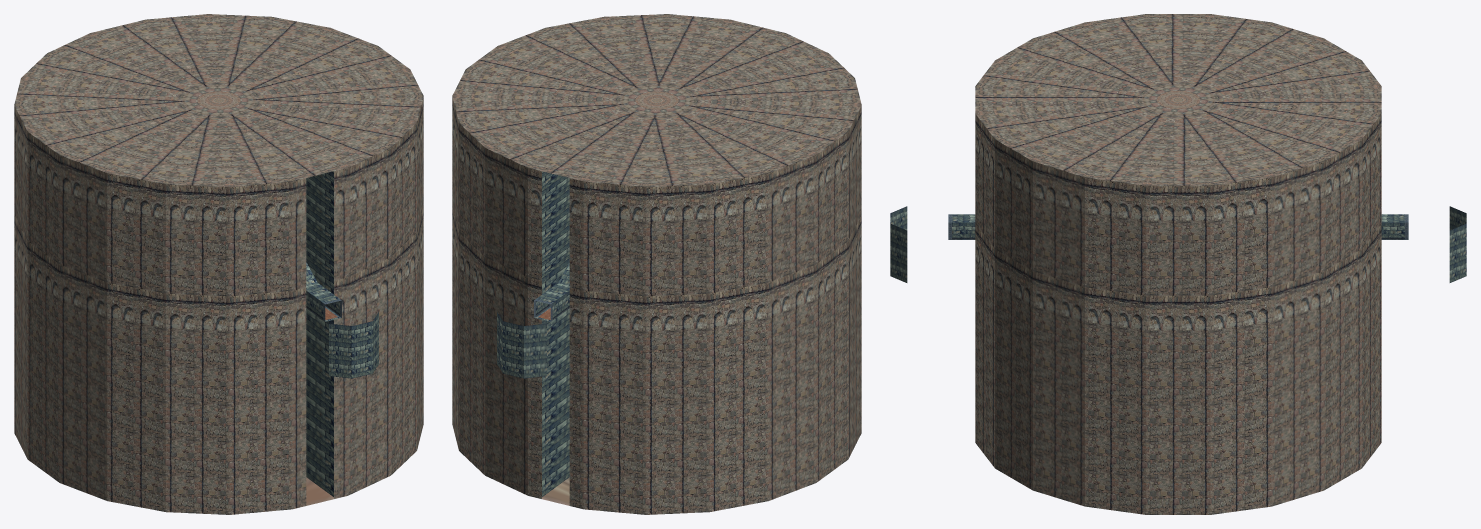
File: Terror_hall3.obj
The picture shows the model from 3 angles, left to right: view 1: azimuth 30°, elevation 25°; view 2: azimuth 150°, elevation 25°; view 3: azimuth 270°, elevation 25°; orthographic projection.
Visible parts, largest first — view 1: Object_2; view 2: Object_2; view 3: Object_2.
Boxes of the visible parts, bbox=[...] form: Object_2: bbox=[14, 14, 423, 514]; Object_2: bbox=[452, 14, 861, 514]; Object_2: bbox=[890, 14, 1466, 514].
Bounding box in the file's own units: 1679 × 1500 × 2380.
